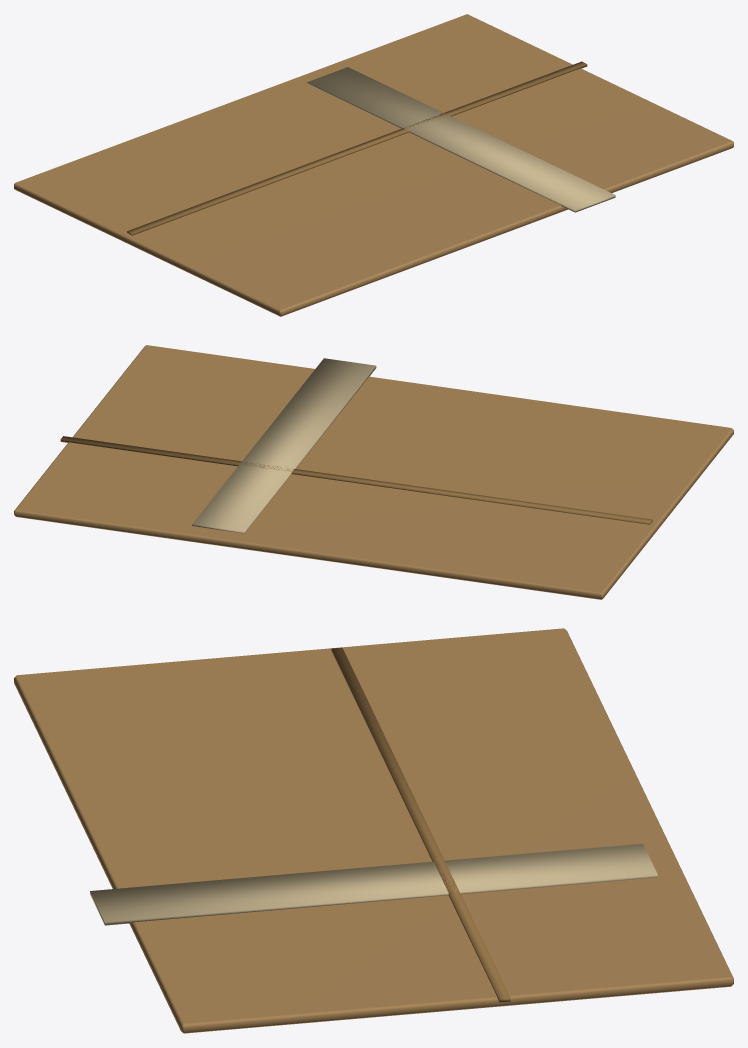
Rendered from flat_box.glb.
3 renders of one model, top to bottom at view 1: azimuth 30°, elevation 25°; view 2: azimuth 150°, elevation 25°; view 3: azimuth 270°, elevation 25°, orthographic. The views are drawn at different scales.
Visible parts, largest first — view 1: flat_box; view 2: flat_box; view 3: flat_box.
Part boxes in pixels (x1=…): flat_box: x1=14, y1=14, x2=733, y2=316; flat_box: x1=14, y1=345, x2=733, y2=599; flat_box: x1=14, y1=628, x2=733, y2=1033.
Size of the model in its own units: 1 by 0.015 by 0.7657.
